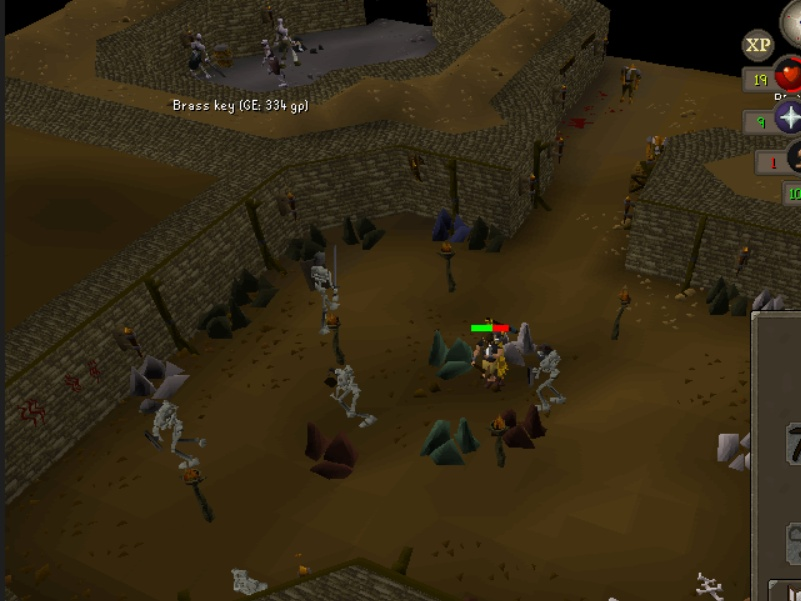adamant: (416, 409, 483, 471), (425, 328, 479, 382)
coal: (190, 299, 256, 343), (229, 263, 284, 311), (702, 271, 752, 323), (335, 208, 389, 254), (466, 212, 510, 256), (285, 218, 329, 262)
iron: (299, 416, 363, 482), (499, 400, 549, 453)
mithril: (430, 205, 470, 248)
silver: (498, 315, 542, 369), (711, 423, 755, 477)
tin: (122, 354, 195, 405), (750, 288, 791, 310)
